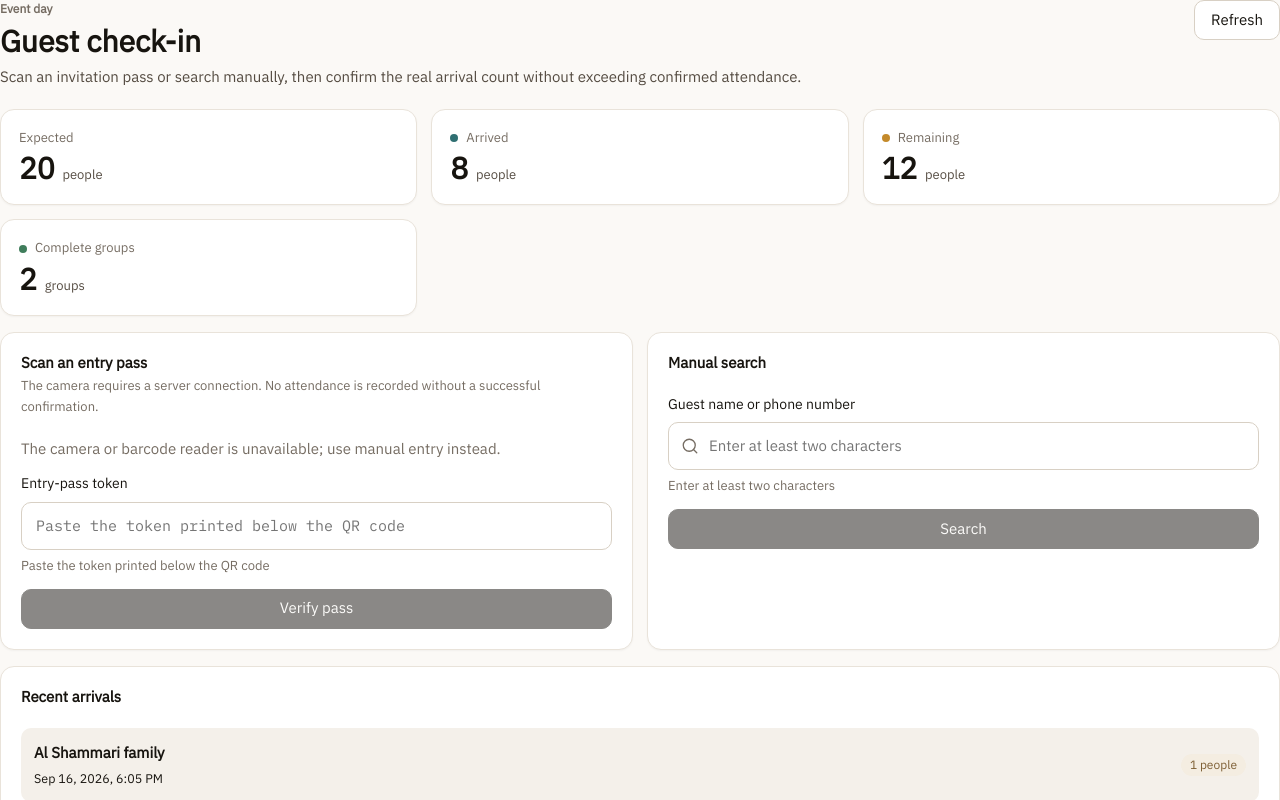
Test: event check-in › confirms an arrival bounded by the remaining attendance
The image size is (1280, 800).
Type "Shammari" into the field labelled "Guest name or phone number" at (976, 446), box x1=707 y1=433 x2=1246 y2=459
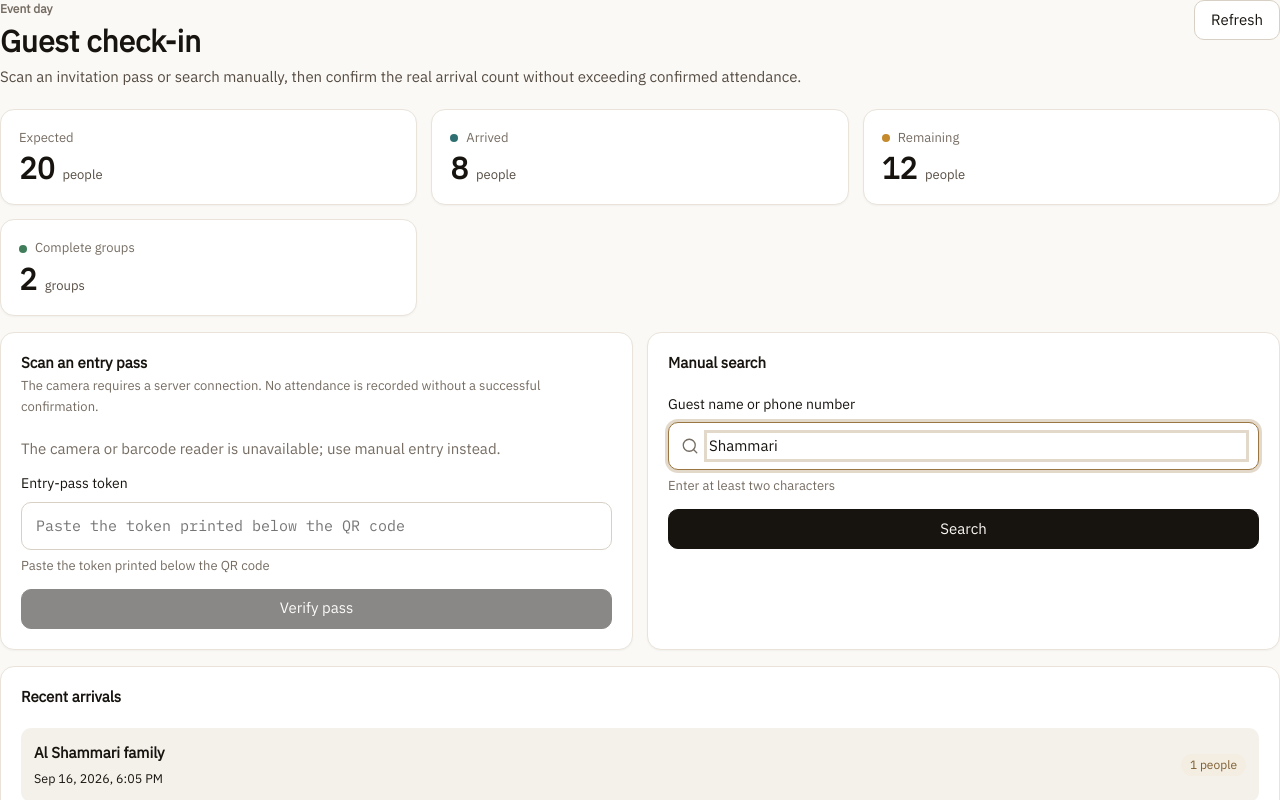
Click the button "Search" at (964, 529), box x1=668 y1=509 x2=1259 y2=549
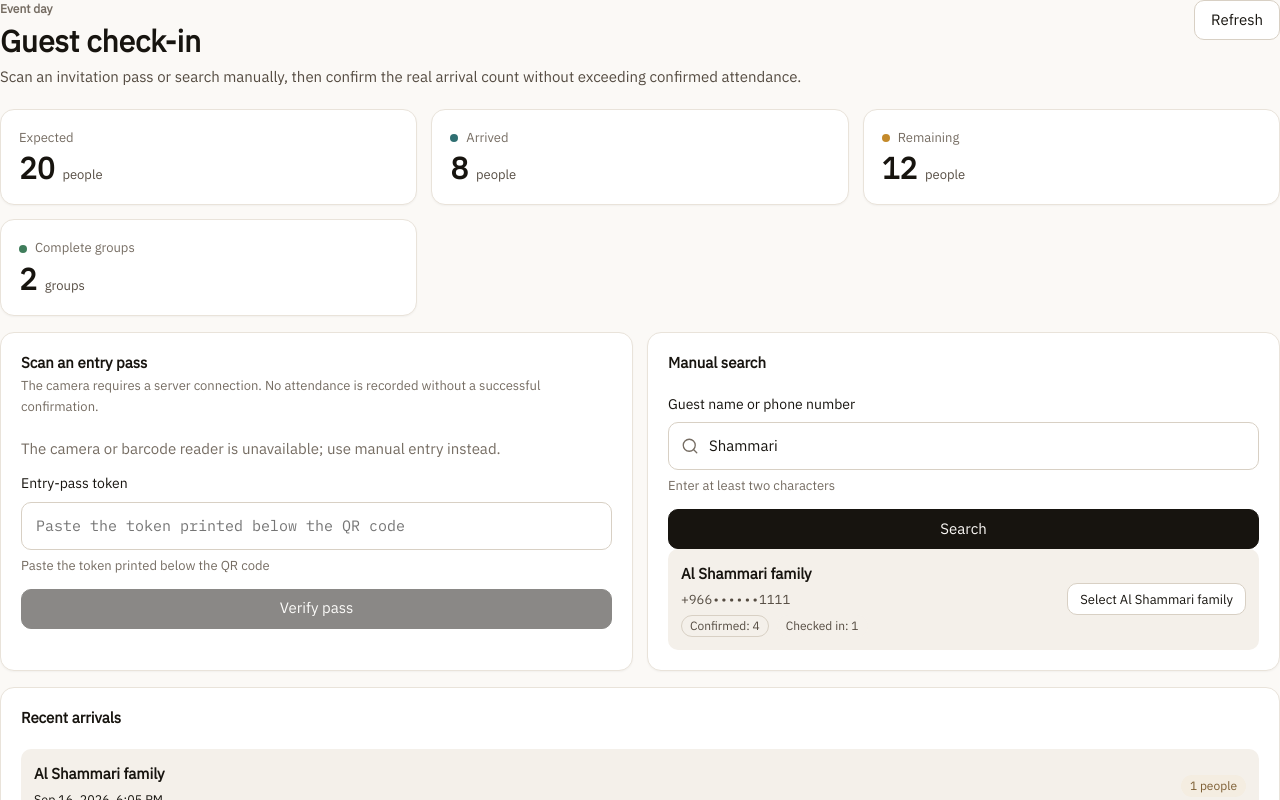
Click the button "Select Al Shammari family" at (1157, 600), box x1=1067 y1=584 x2=1246 y2=616
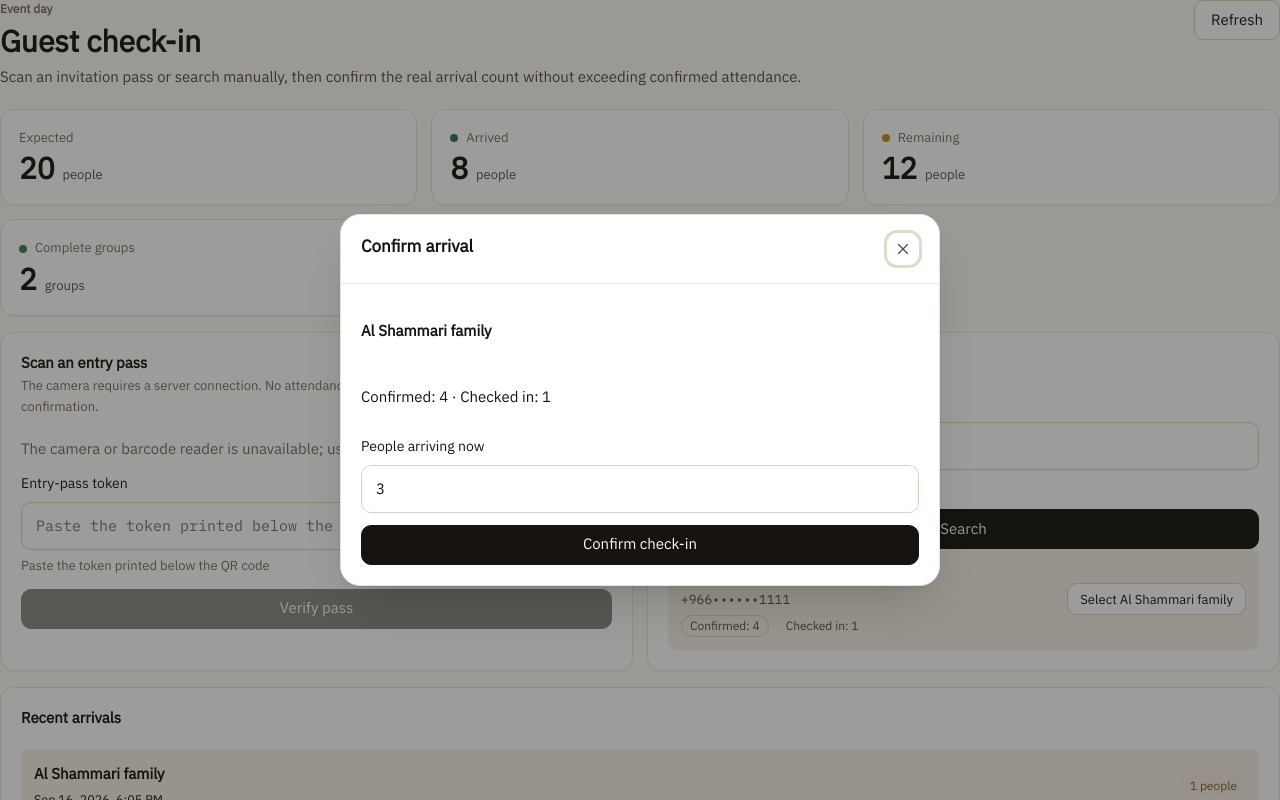
Expected: the number field labelled "People arriving now" holds "3"
Type "9" into the number field labelled "People arriving now" at (640, 489), box x1=374 y1=476 x2=906 y2=502
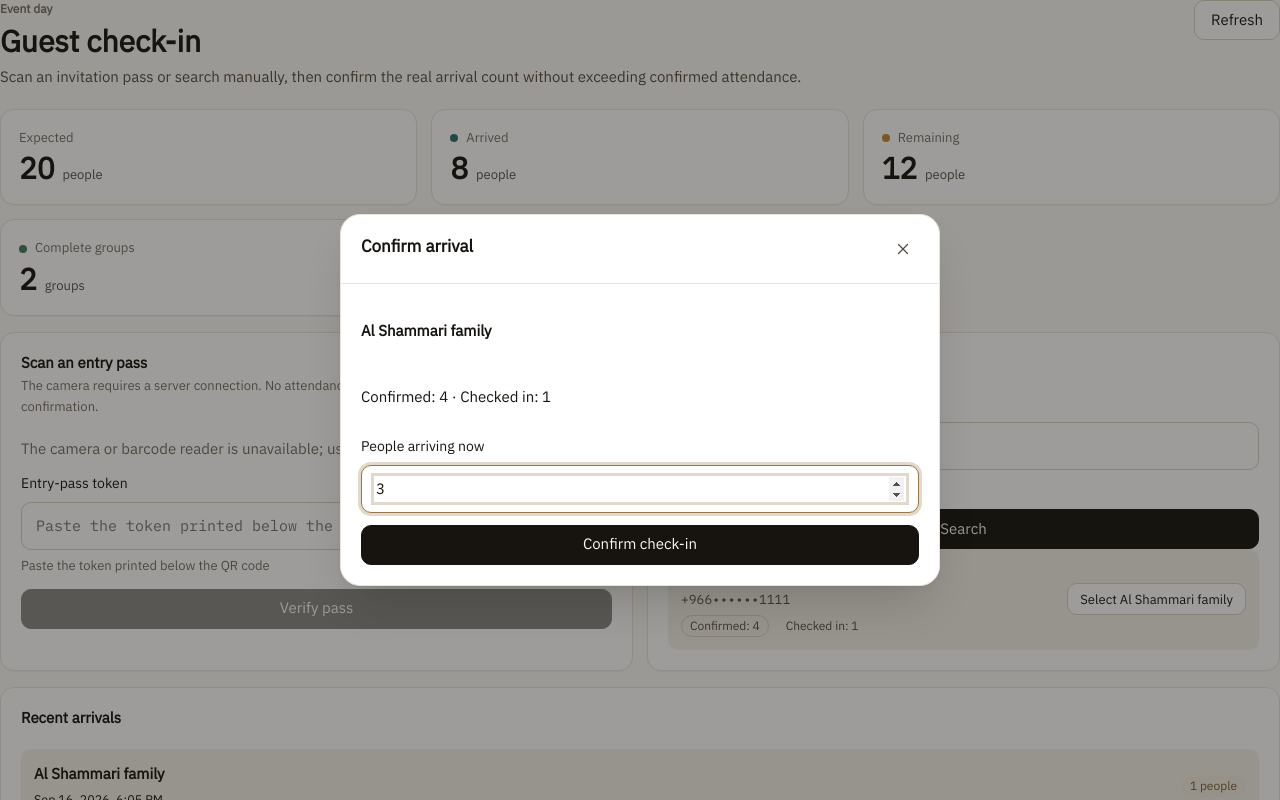
Expected: the number field labelled "People arriving now" holds "3", x1=374 y1=476 x2=906 y2=502
Click the button "Confirm check-in" at (640, 545), box x1=361 y1=525 x2=919 y2=565
(page scrolled)
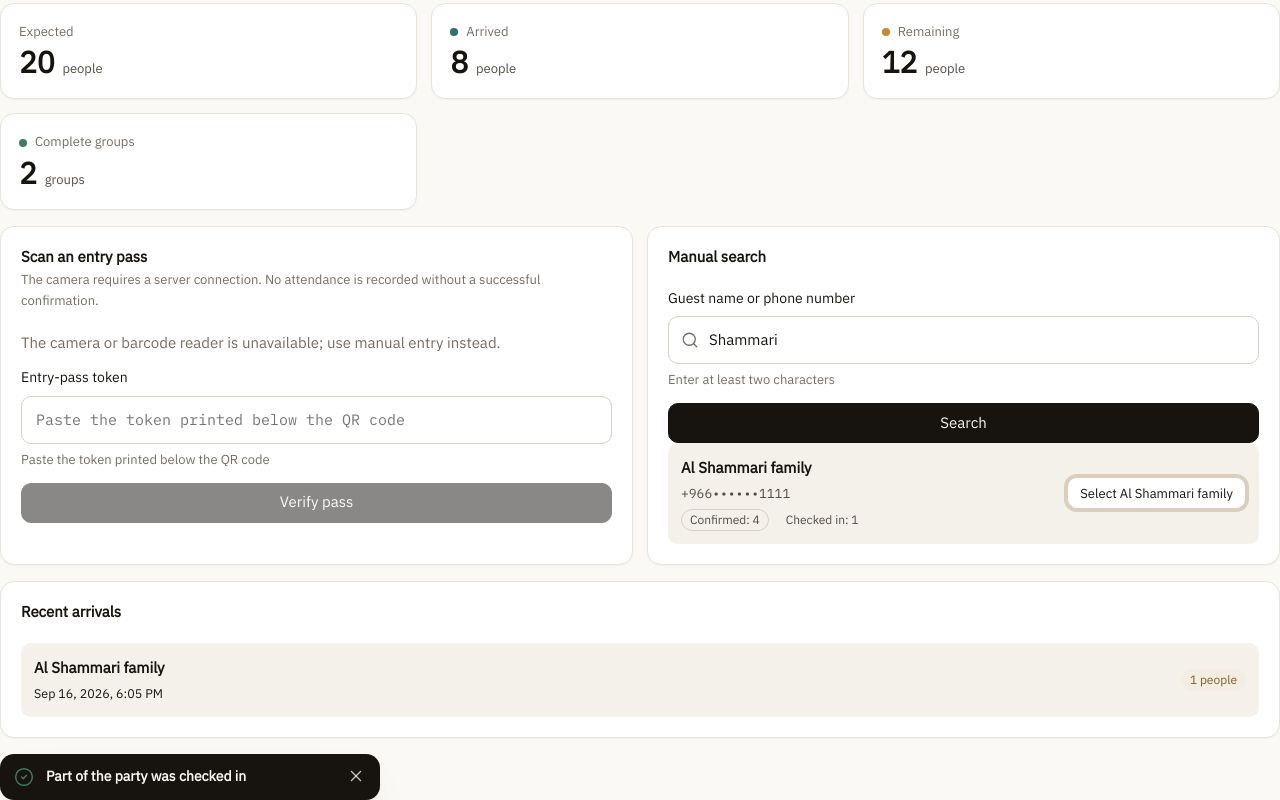
Expected: the text "Part of the party was checked in" is shown, x1=46 y1=766 x2=246 y2=787
